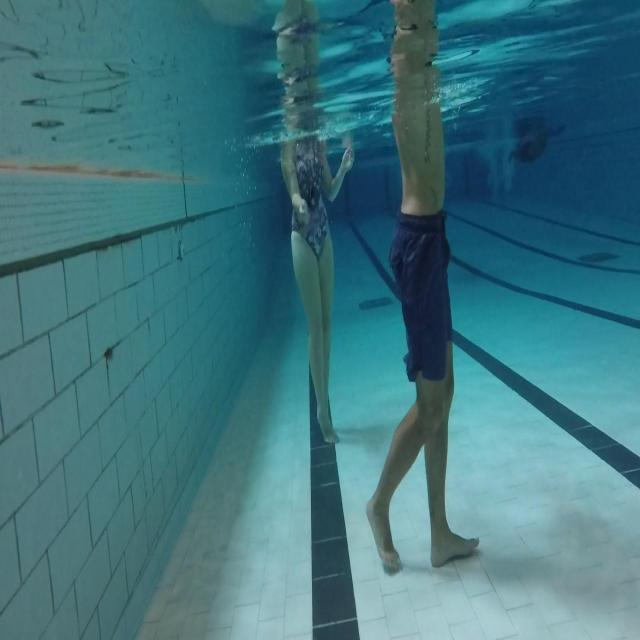human: (365, 0, 480, 574), (273, 2, 355, 446)
